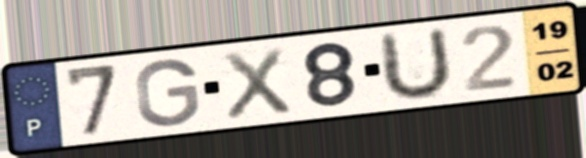2: (458, 23, 517, 94)
7: (62, 62, 121, 139)
8: (300, 39, 360, 111)
G: (132, 56, 202, 129)
U: (378, 24, 455, 105)
X: (219, 44, 295, 123)
